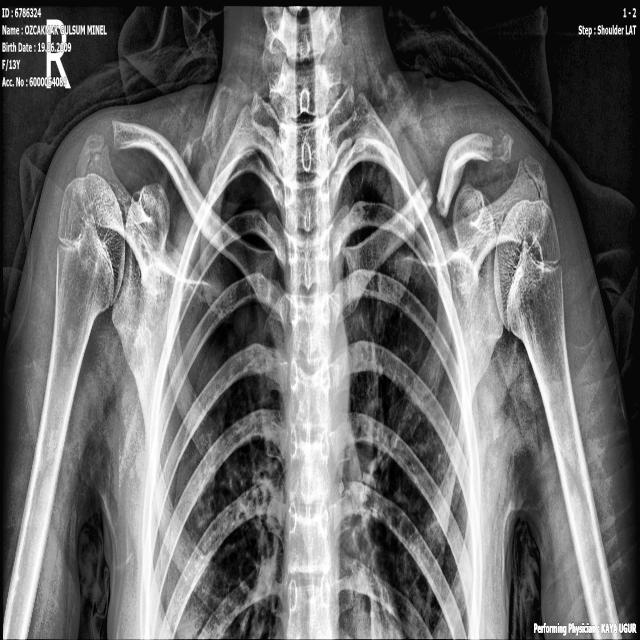Fracture: (412, 166, 458, 230)
